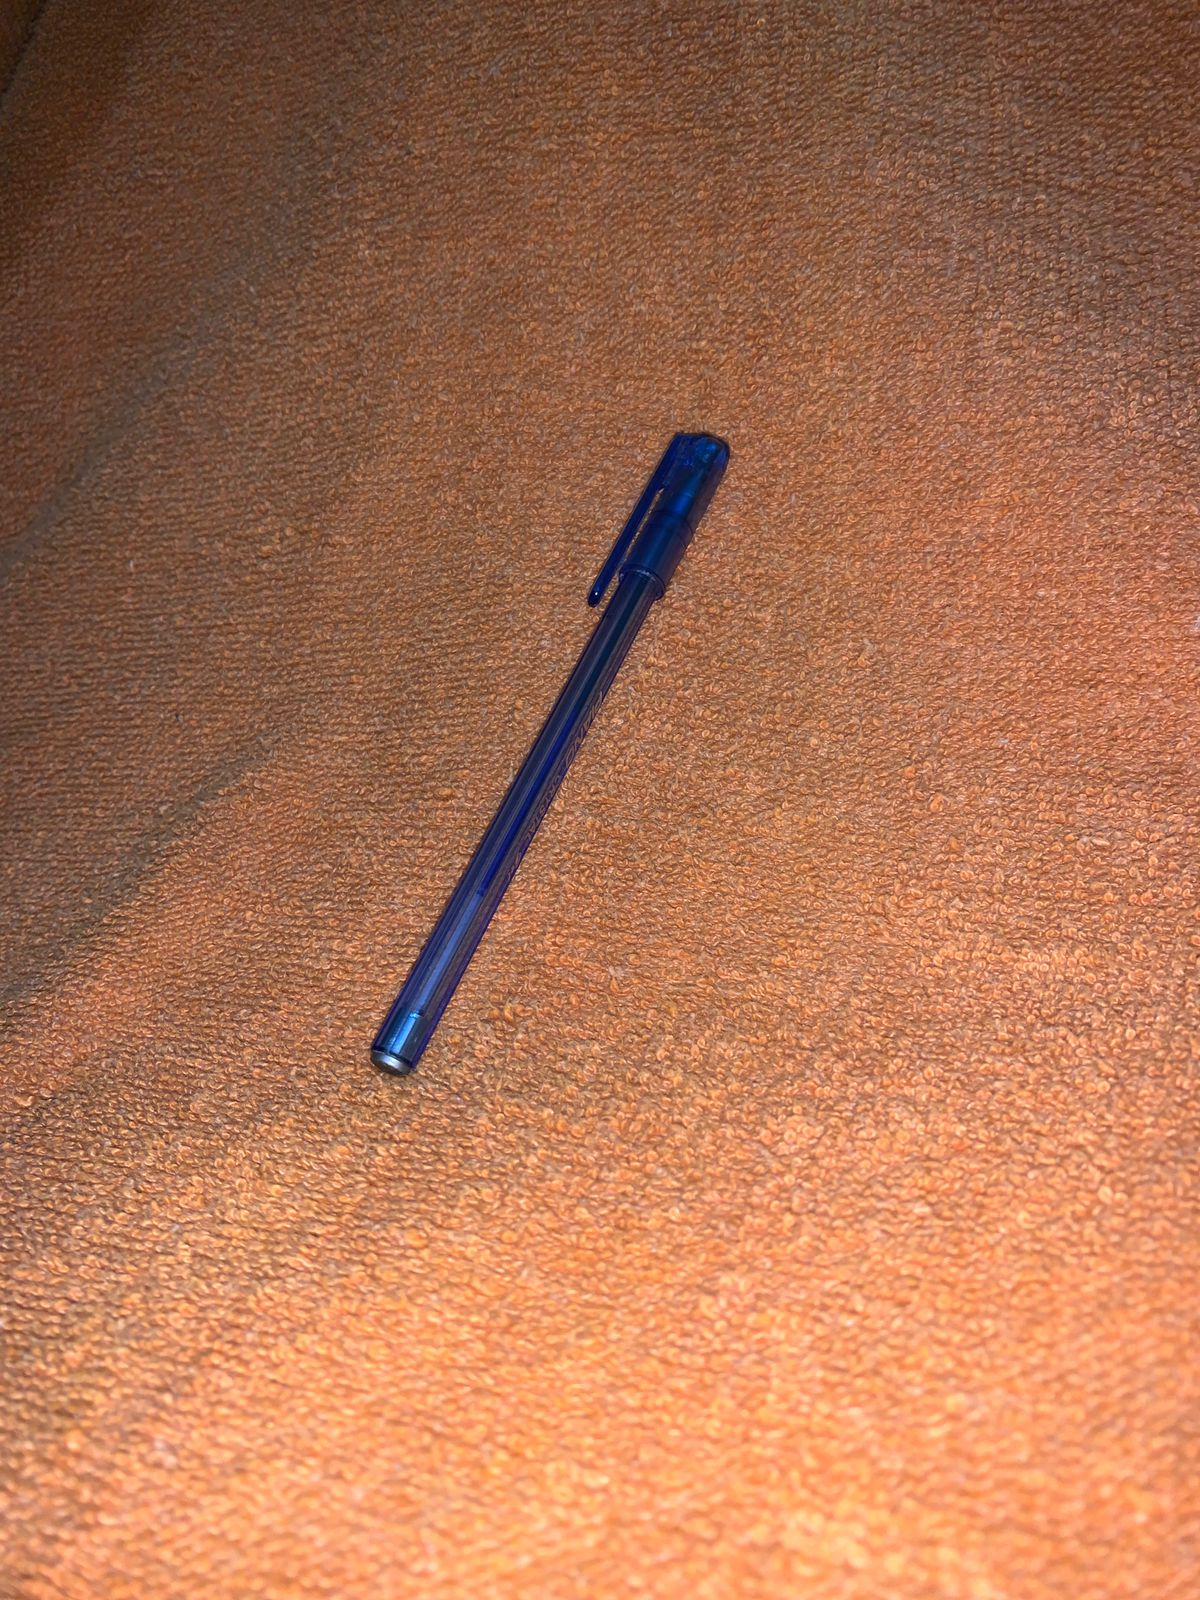pen: (295, 353, 797, 1209)
